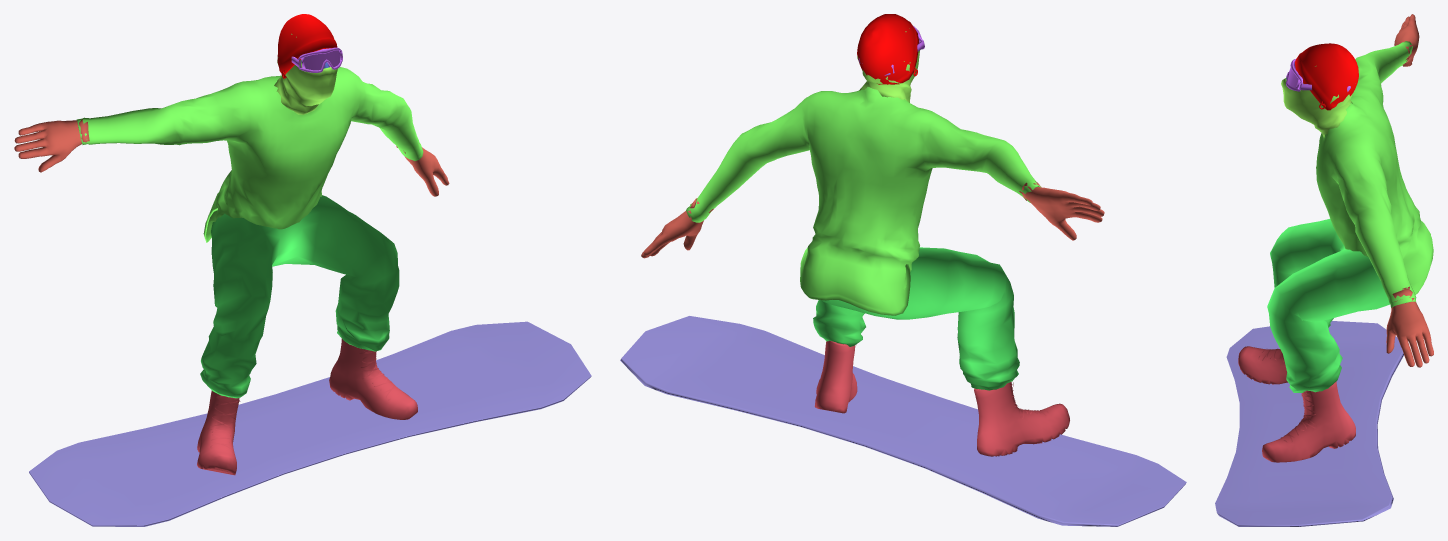
Rendered from snowboarder.fbx.
3 views of the same model, side by side, from view 1: azimuth 30°, elevation 25°; view 2: azimuth 150°, elevation 25°; view 3: azimuth 270°, elevation 25° (orthographic). The views are drawn at different scales.
Visible parts, largest first — view 1: default.001, Tops, Bottoms, Shoes, Gloves, Hats, Masks, Eyewear; view 2: default.001, Tops, Bottoms, Shoes, Hats, Gloves, Masks; view 3: default.001, Tops, Bottoms, Shoes, Gloves, Hats, Masks, Eyewear.
Part boxes in pixels (x1,y1,x2,y2): default.001: (29, 321, 591, 526); Tops: (76, 67, 423, 242); Bottoms: (200, 195, 399, 398); Shoes: (197, 338, 417, 475); Gloves: (14, 119, 449, 196); Hats: (277, 14, 337, 78); Masks: (274, 33, 337, 114); Eyewear: (291, 47, 342, 72); default.001: (620, 316, 1186, 526); Tops: (686, 87, 1040, 315); Bottoms: (813, 247, 1019, 390); Shoes: (814, 340, 1069, 456); Hats: (857, 14, 919, 84); Gloves: (641, 181, 1104, 258); Masks: (857, 28, 919, 102); default.001: (1215, 321, 1403, 526); Tops: (1316, 41, 1433, 307); Bottoms: (1267, 219, 1389, 392); Shoes: (1238, 346, 1355, 462); Gloves: (1386, 14, 1433, 367); Hats: (1295, 43, 1358, 110); Masks: (1281, 65, 1352, 137); Eyewear: (1286, 59, 1350, 91).
Size of the model in its own units: 460 by 361 by 176.
